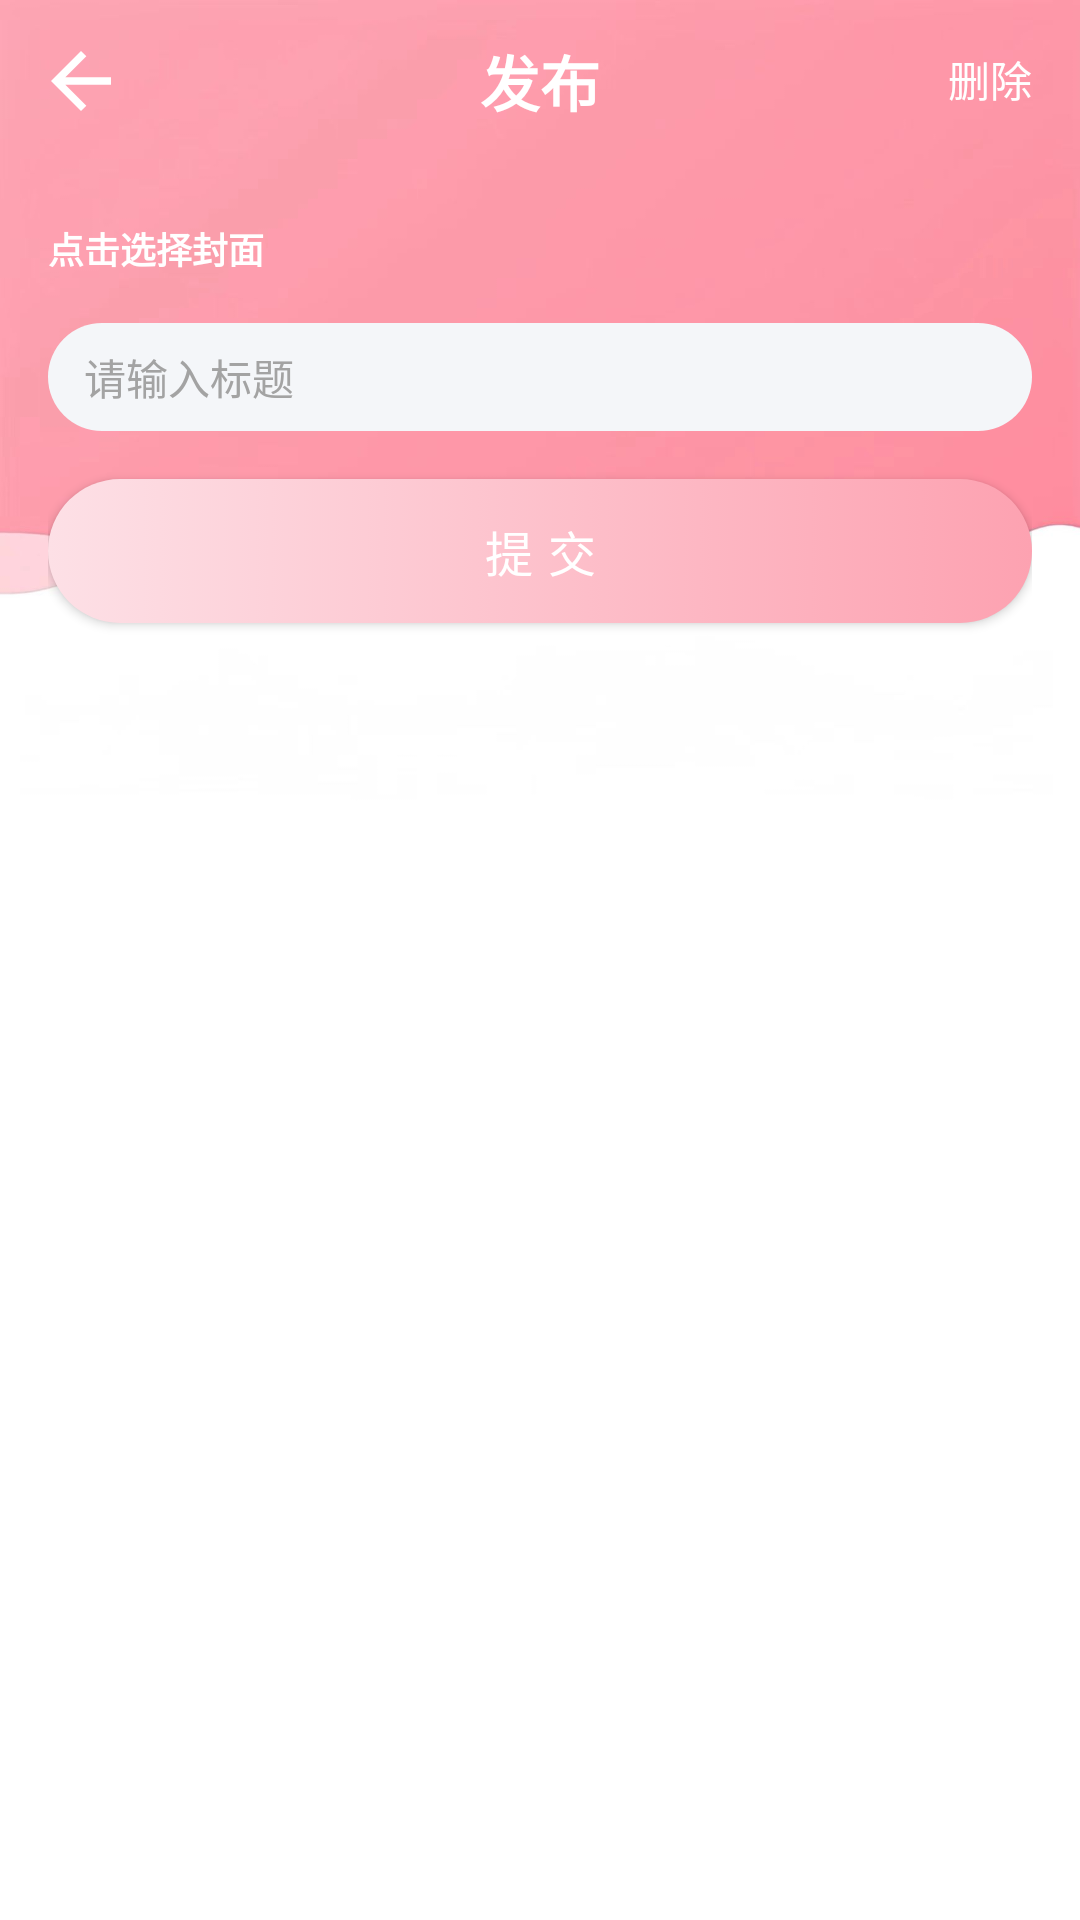

Point at icon controls on the screen. Image size 1080w x 1920h, points as (x,y).
back: (81,81)
